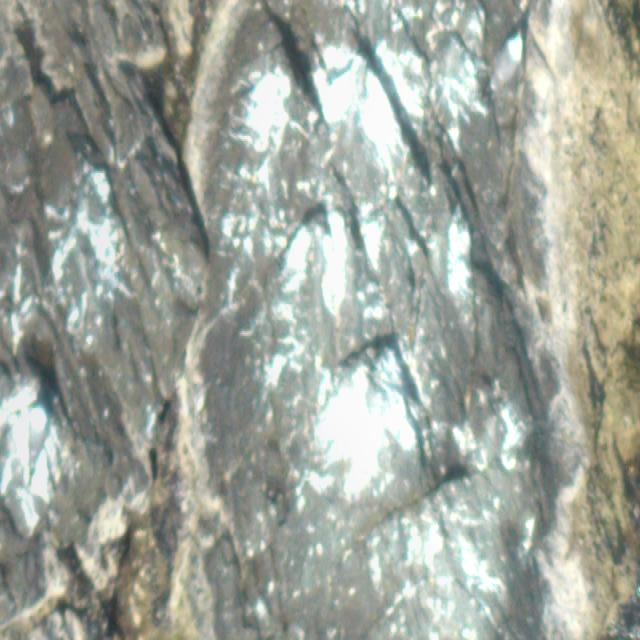umineko: (490, 31, 523, 95)
